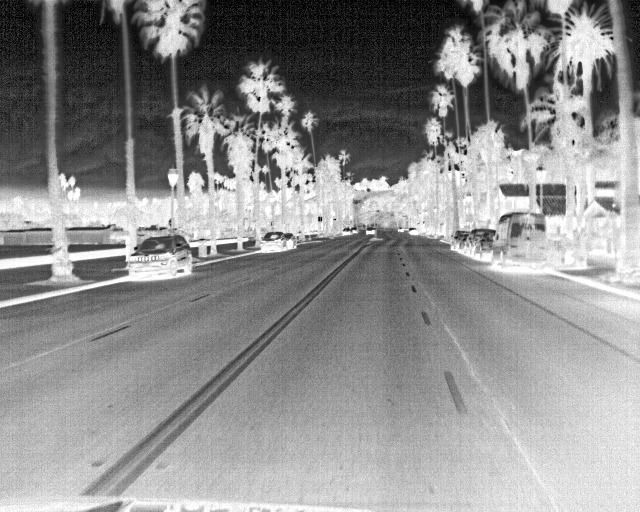car: (492, 212, 548, 270), (125, 236, 196, 281), (461, 229, 498, 257), (257, 229, 287, 255), (449, 228, 465, 251), (282, 232, 297, 251), (340, 227, 353, 237), (364, 226, 376, 235), (349, 226, 359, 235)
